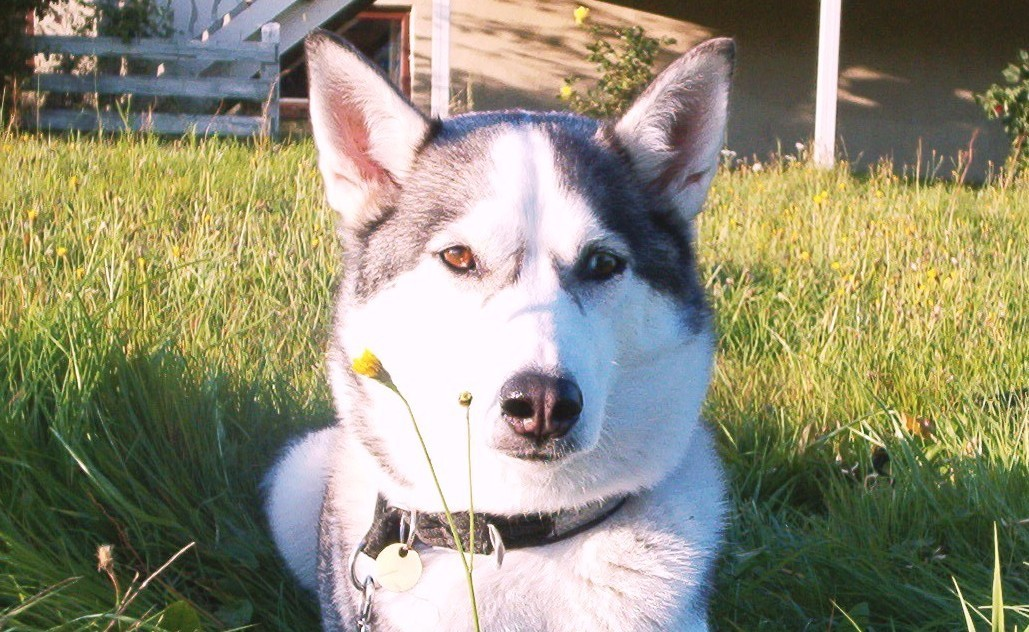dog: (262, 28, 736, 629)
